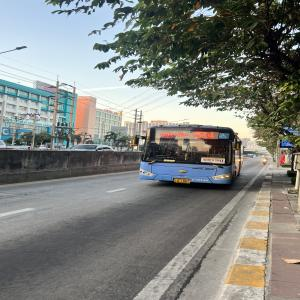BMTA-bus: (138, 125, 242, 187)
Bus Line Number: (192, 130, 217, 140)
Bus Side Number: (192, 178, 210, 182)
Destination Sign: (202, 158, 224, 164)
